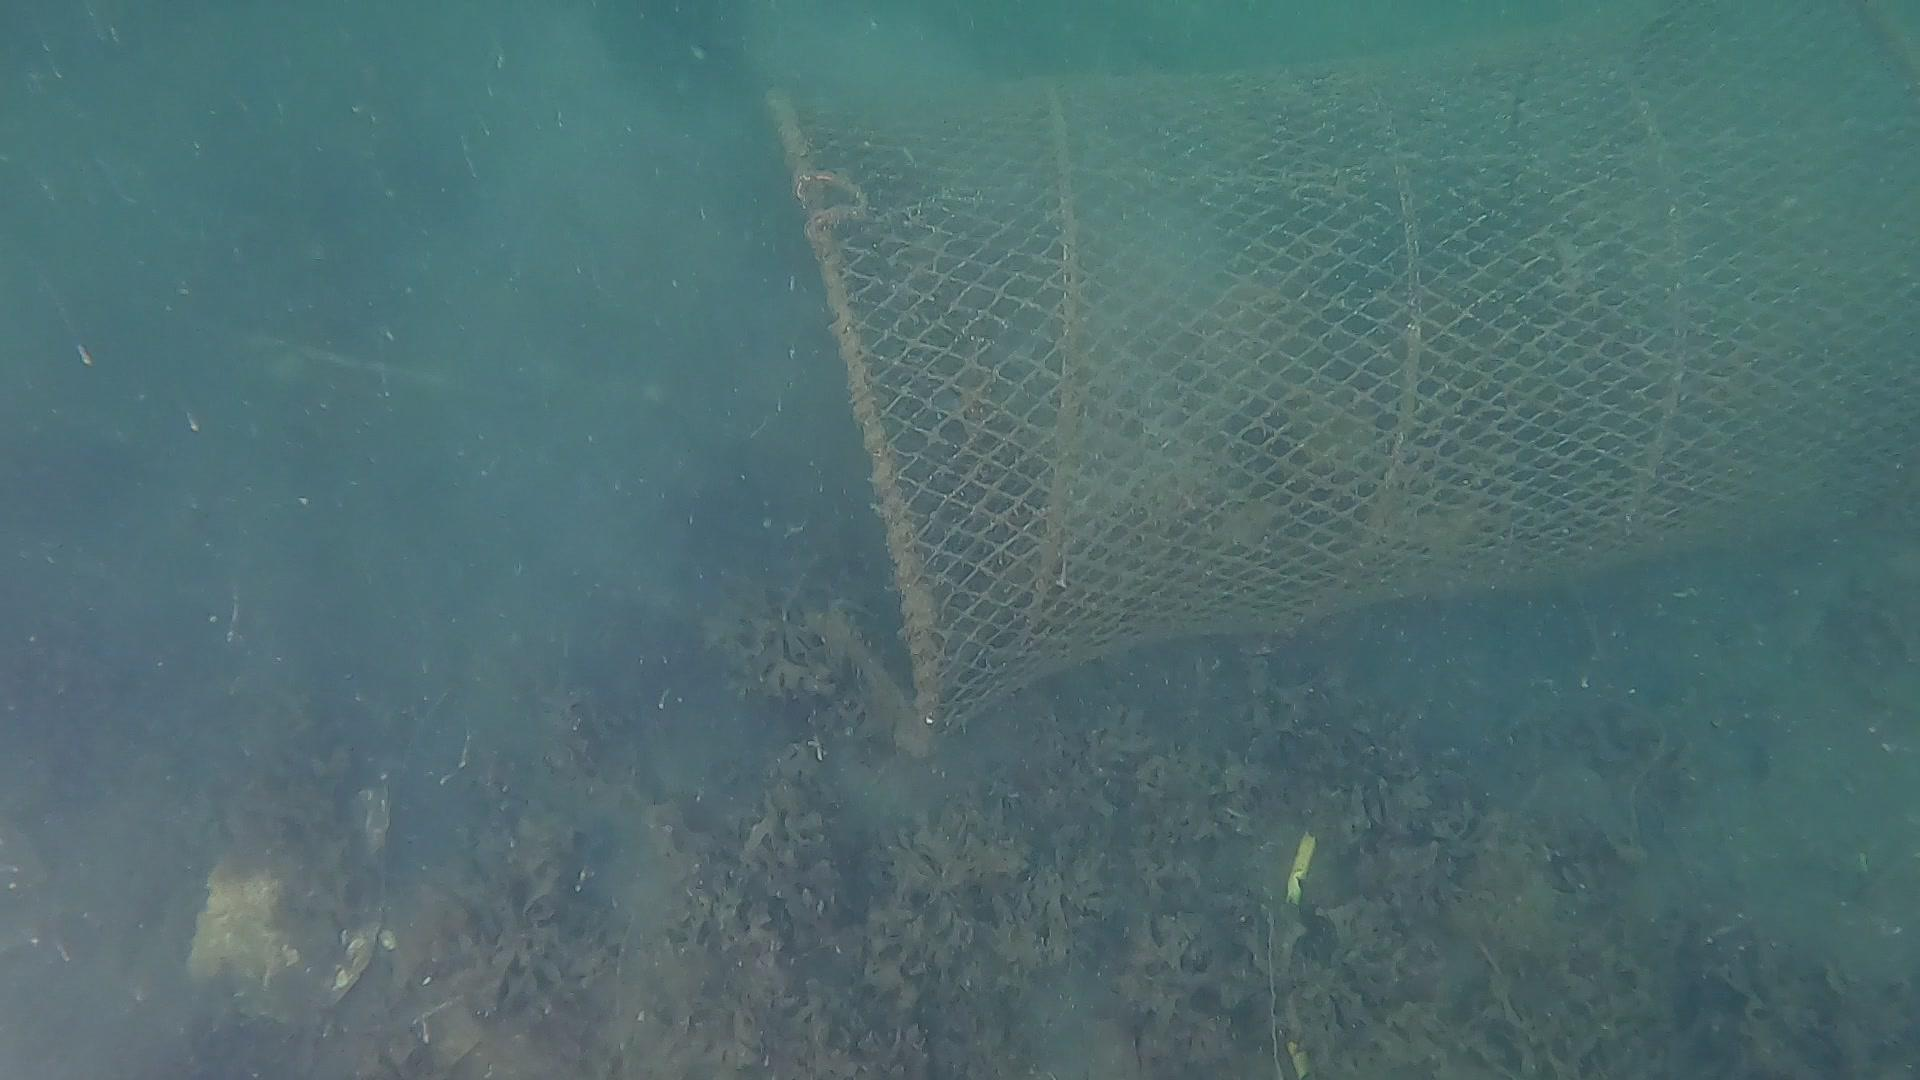spring fish trap: (764, 0, 1920, 757)
